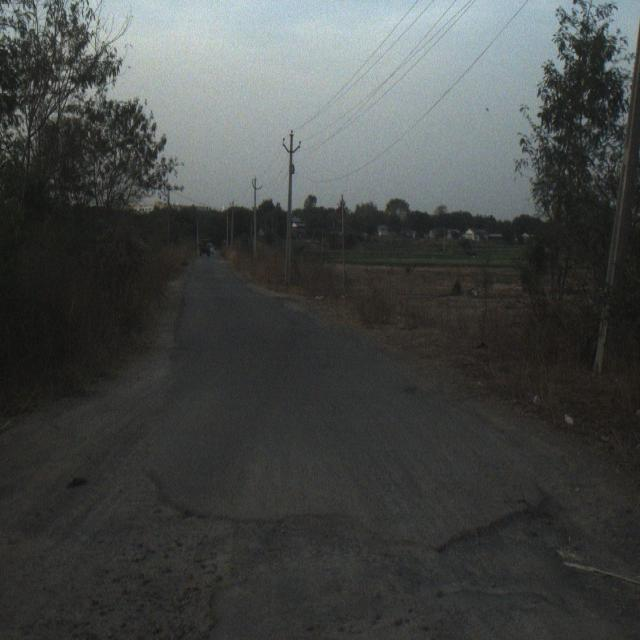pothole: (0, 435, 640, 640)
